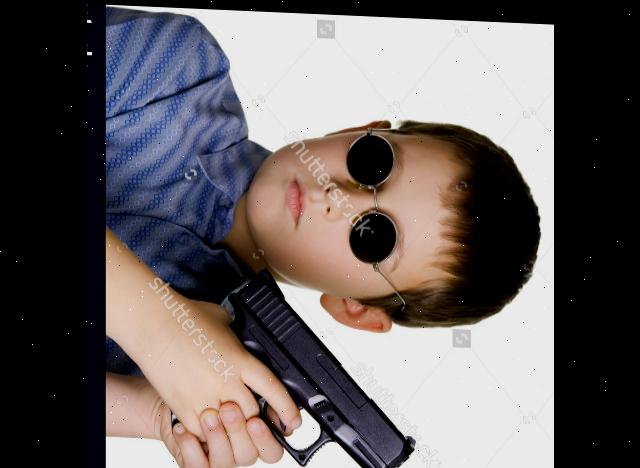pistol: (166, 259, 418, 468)
